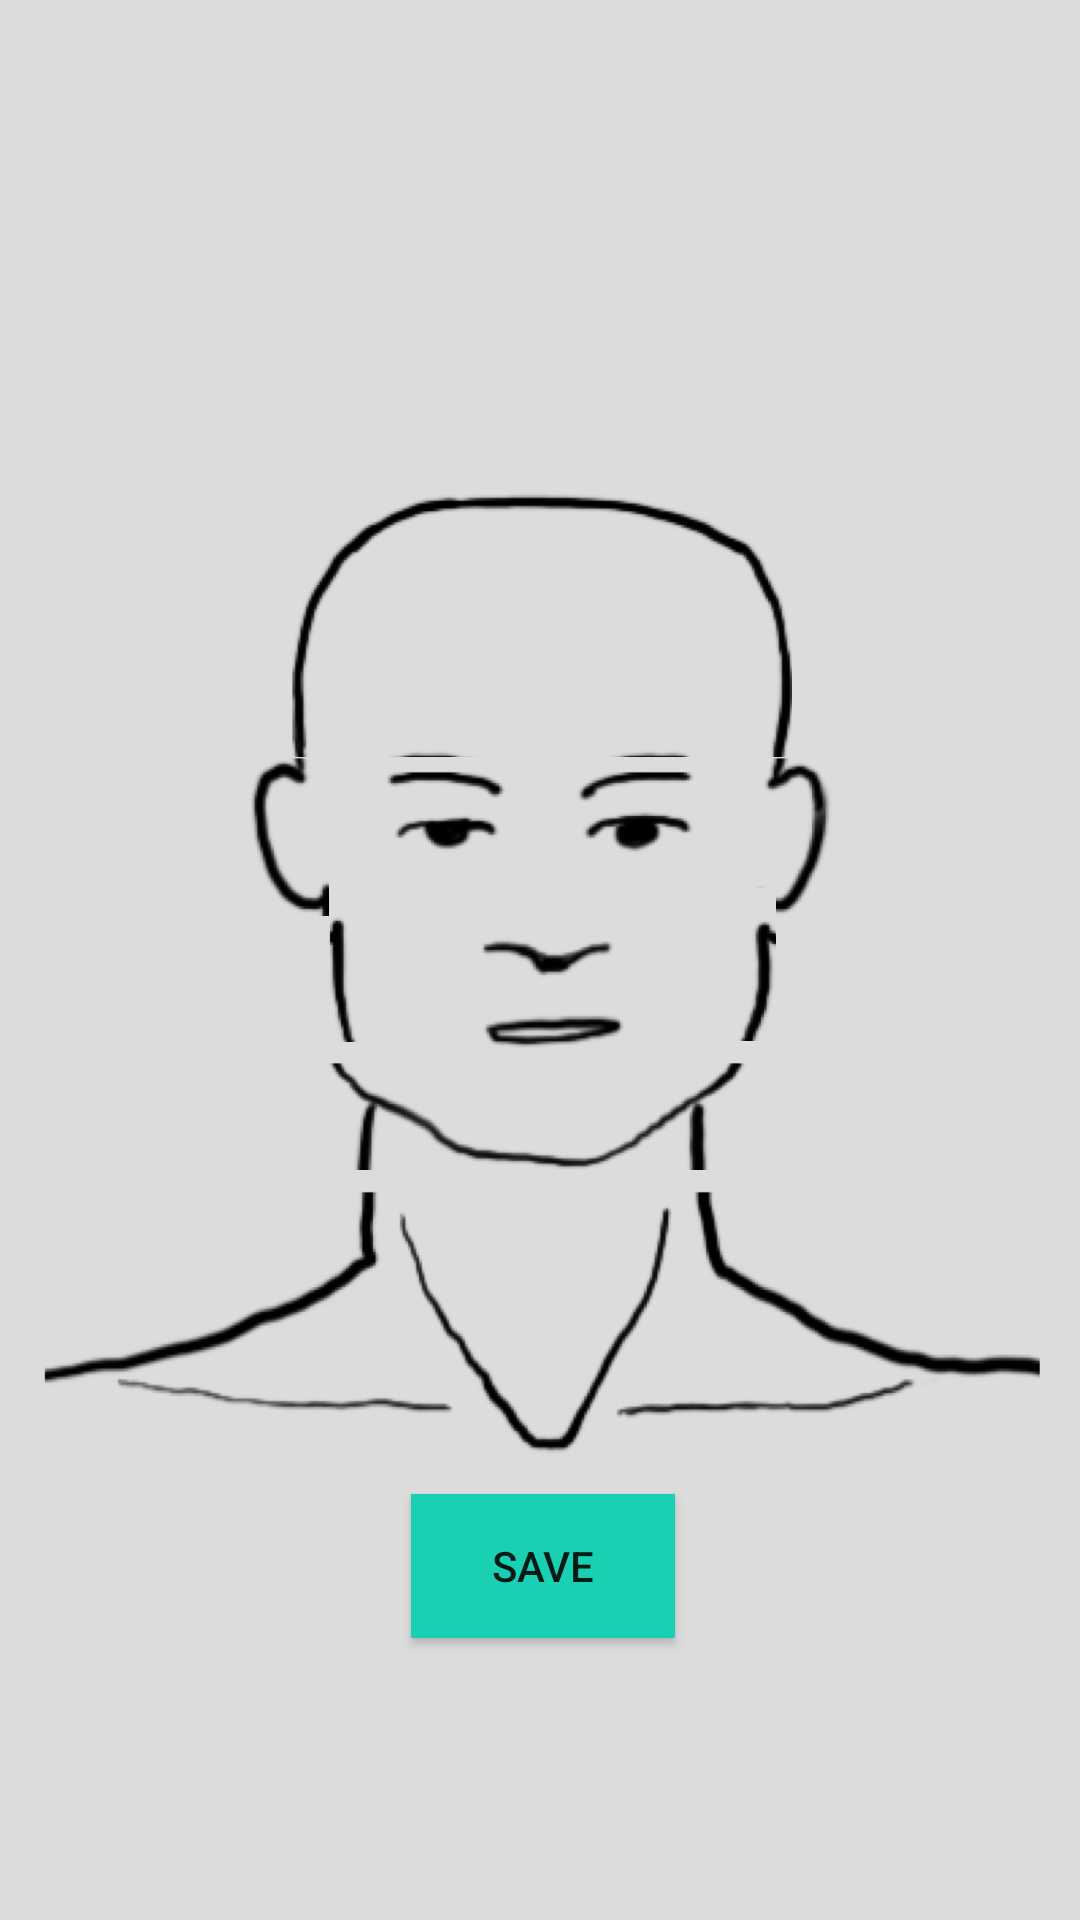

Where to tap for icons on this 1080 × 1920 app screen, as (x=x, y=y):
eyes: (x=540, y=811)
mouth: (x=554, y=1031)
nose: (x=547, y=958)
